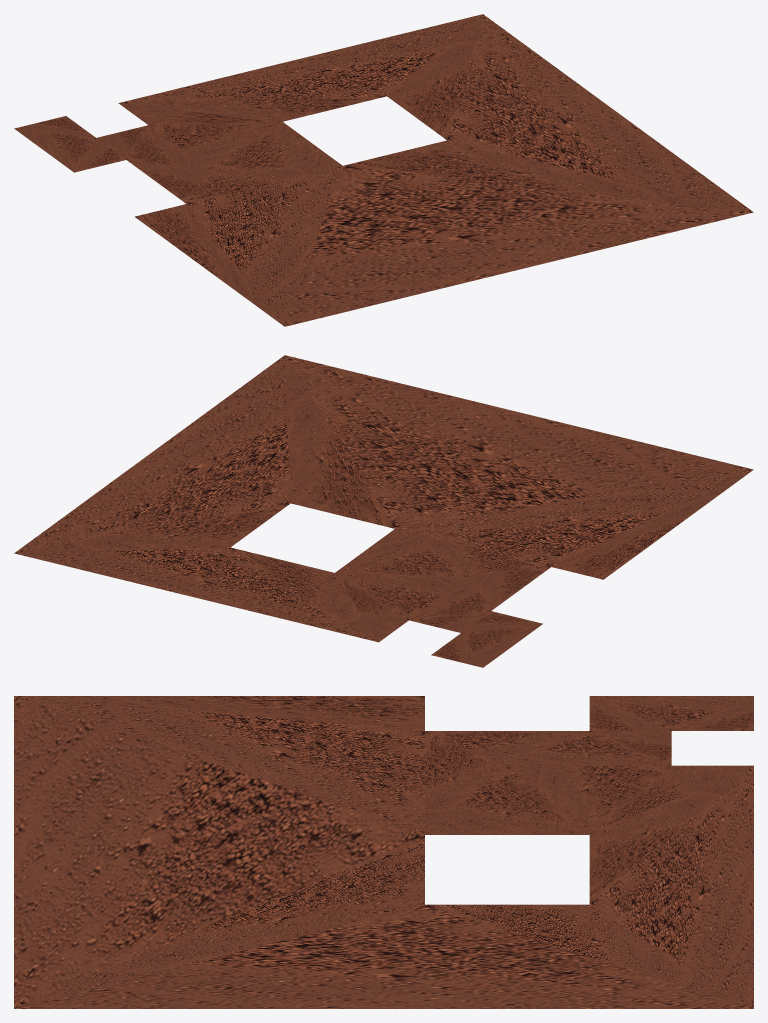
Rendered from t1.dat.obj.
3 views of the same model, one above another, from view 1: azimuth 30°, elevation 25°; view 2: azimuth 150°, elevation 25°; view 3: azimuth 270°, elevation 25° (orthographic). The views are drawn at different scales.
Size of the model in its own units: 9 by 0 by 9.
1 material, 1 textured.
